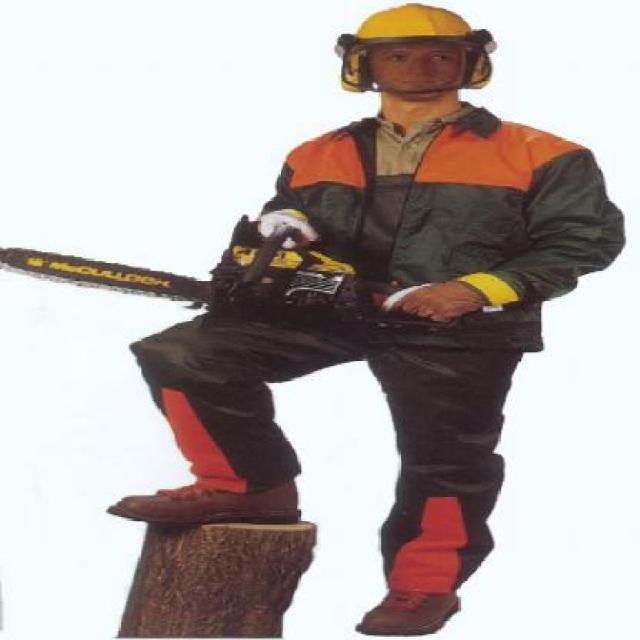Chainsaw: (1, 212, 457, 337)
